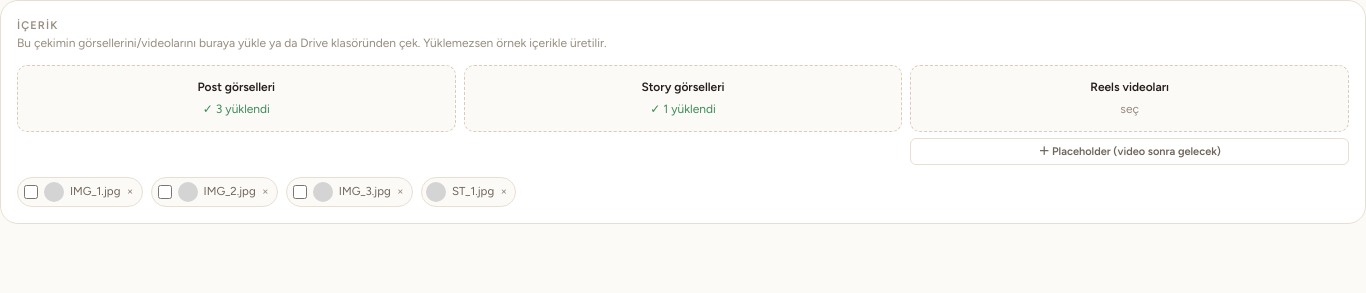
Test: ContentUploader — manual carousel creation › merges the selected posts and clears the selection on success
Click the checkbox named "IMG_1.jpg — kaydırmalı için seç": (31, 192) [24,185,38,199]
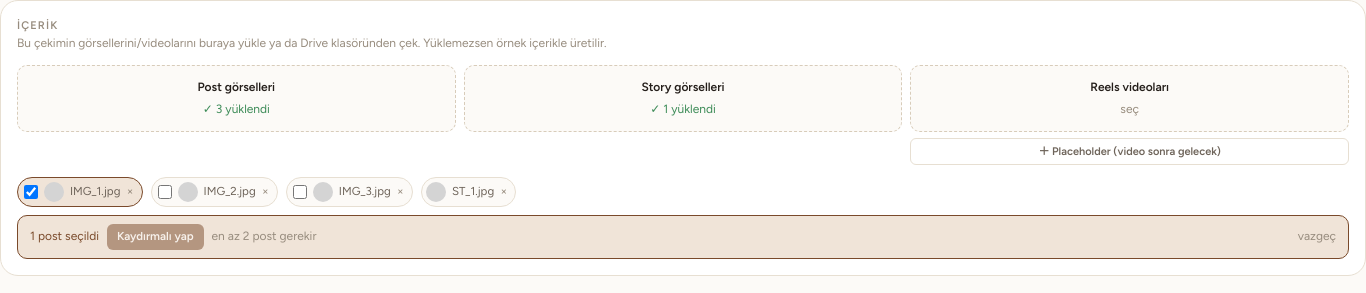
Click the checkbox named "IMG_2.jpg — kaydırmalı için seç": (165, 192) [158,185,172,199]
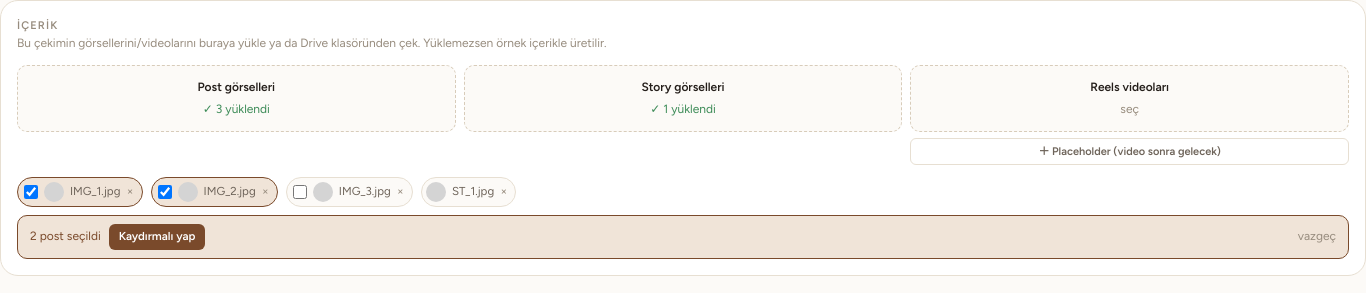
Click the button "Kaydırmalı yap": (157, 237) [109,224,205,250]
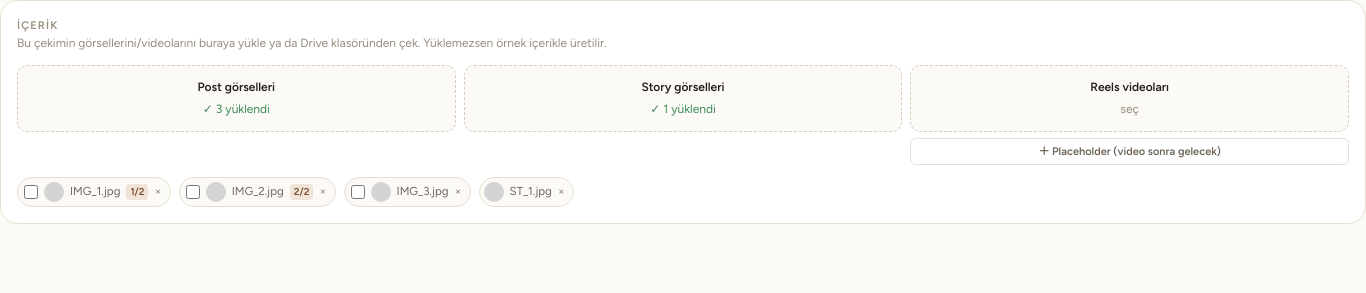
Now the text "1/2" is shown once, box [126,184,148,200]
Now the button "Kaydırmalı yap" is gone
